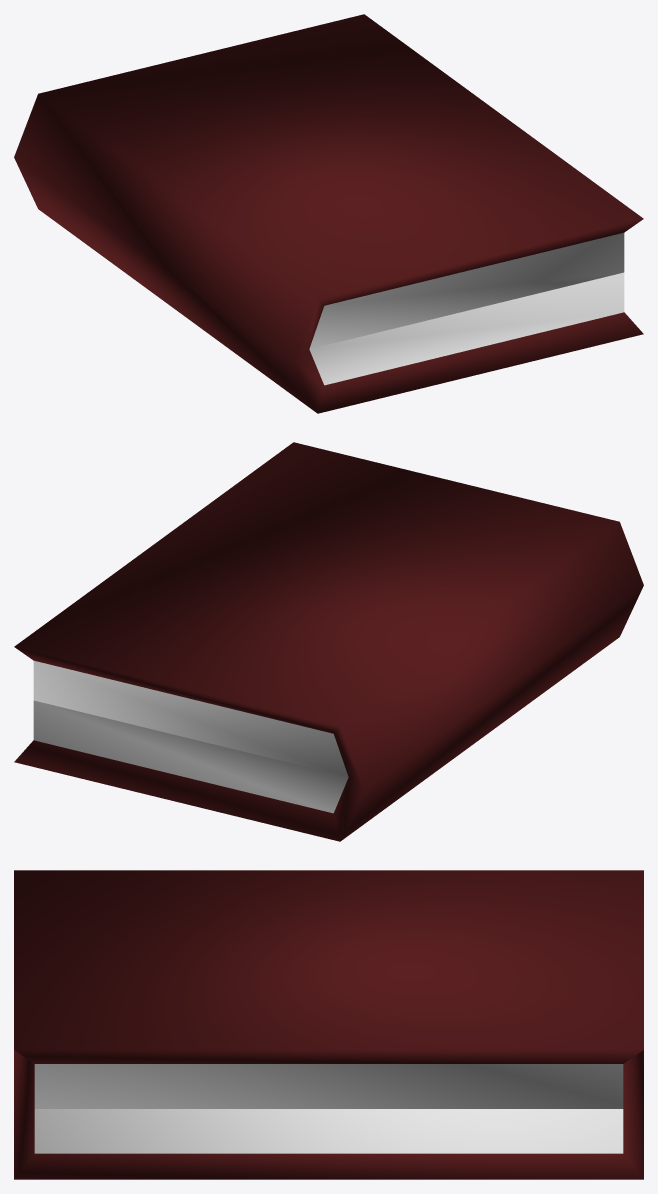
Rendered from Book.fbx.
The picture shows the model from 3 angles, top to bottom: view 1: azimuth 30°, elevation 25°; view 2: azimuth 150°, elevation 25°; view 3: azimuth 270°, elevation 25°; orthographic projection. The views are drawn at different scales.
Parts seen in each view (by area): view 1: 큐브.004; view 2: 큐브.004; view 3: 큐브.004.
Boxes of the visible parts, x1,y1,x2,y2 form: 큐브.004: (14,14,643,413); 큐브.004: (14,442,643,841); 큐브.004: (14,870,643,1179).
Bounding box in the file's own units: 53.53 × 16.84 × 74.
